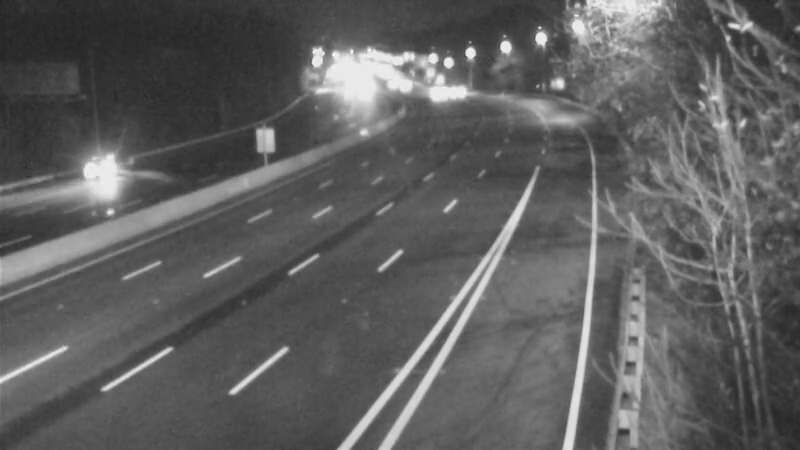vehicle: (54, 138, 134, 218)
